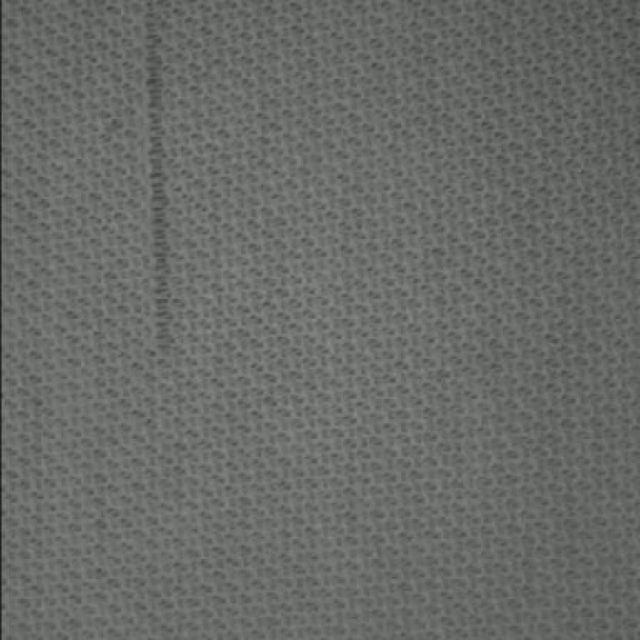Line: (141, 0, 174, 350)
